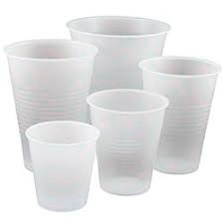paper_cup: (0, 31, 101, 175), (61, 12, 173, 124), (135, 50, 223, 177), (81, 84, 172, 199), (20, 115, 104, 216)
